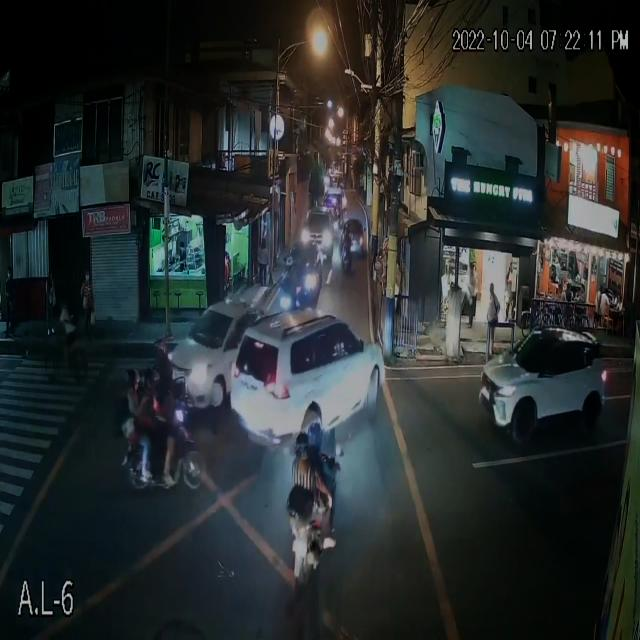Full-Faced: (142, 367, 162, 396), (307, 422, 324, 452), (294, 428, 310, 458)
Half-Faced: (124, 368, 139, 391)
